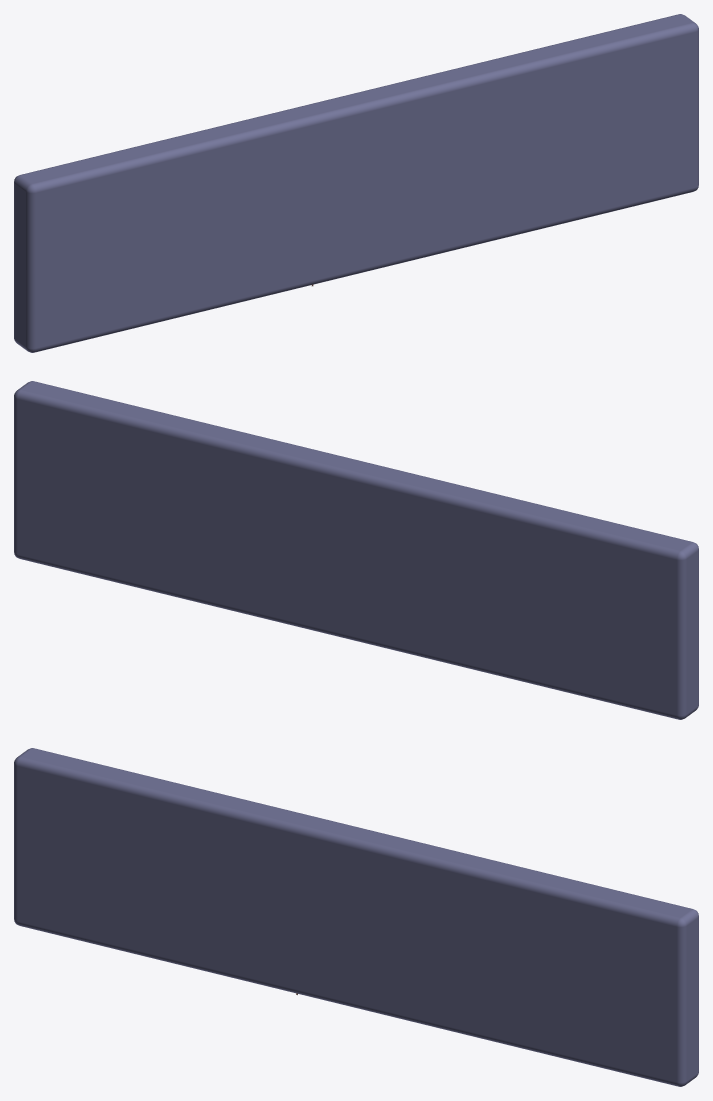
File: Back.glb
The picture shows the model from 3 angles, top to bottom: view 1: azimuth 30°, elevation 25°; view 2: azimuth 150°, elevation 25°; view 3: azimuth 330°, elevation 25°; orthographic projection.
Parts seen in each view (by area): view 1: Box 2; view 2: Box 2; view 3: Box 2.
Boxes of the visible parts, x1,y1,x2,y2 form: Box 2: (14, 14, 698, 352); Box 2: (14, 381, 698, 719); Box 2: (14, 748, 698, 1086).
Size of the model in its own units: 4.68 by 1.12 by 0.2235.
